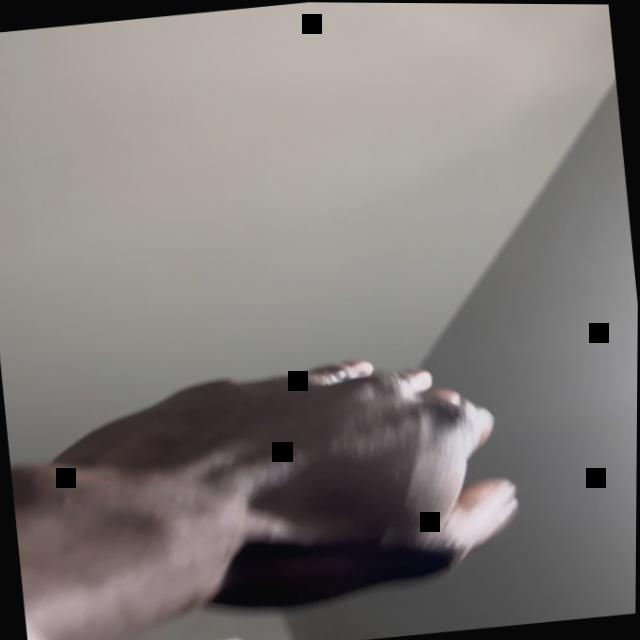Paper: (39, 341, 533, 639)
